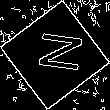N_W: (27, 31, 83, 79)
